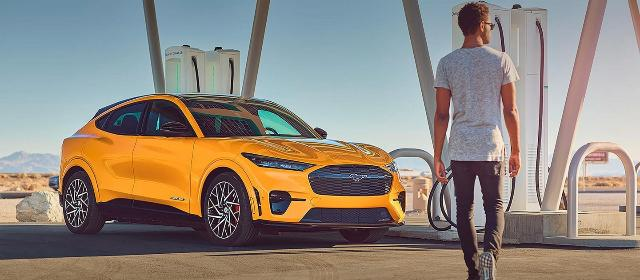ford: (58, 94, 406, 246)
